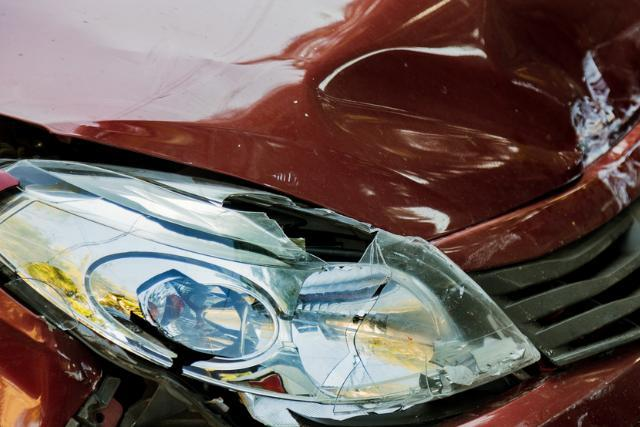Bonnet: (5, 0, 640, 217)
Light: (0, 143, 542, 412)
